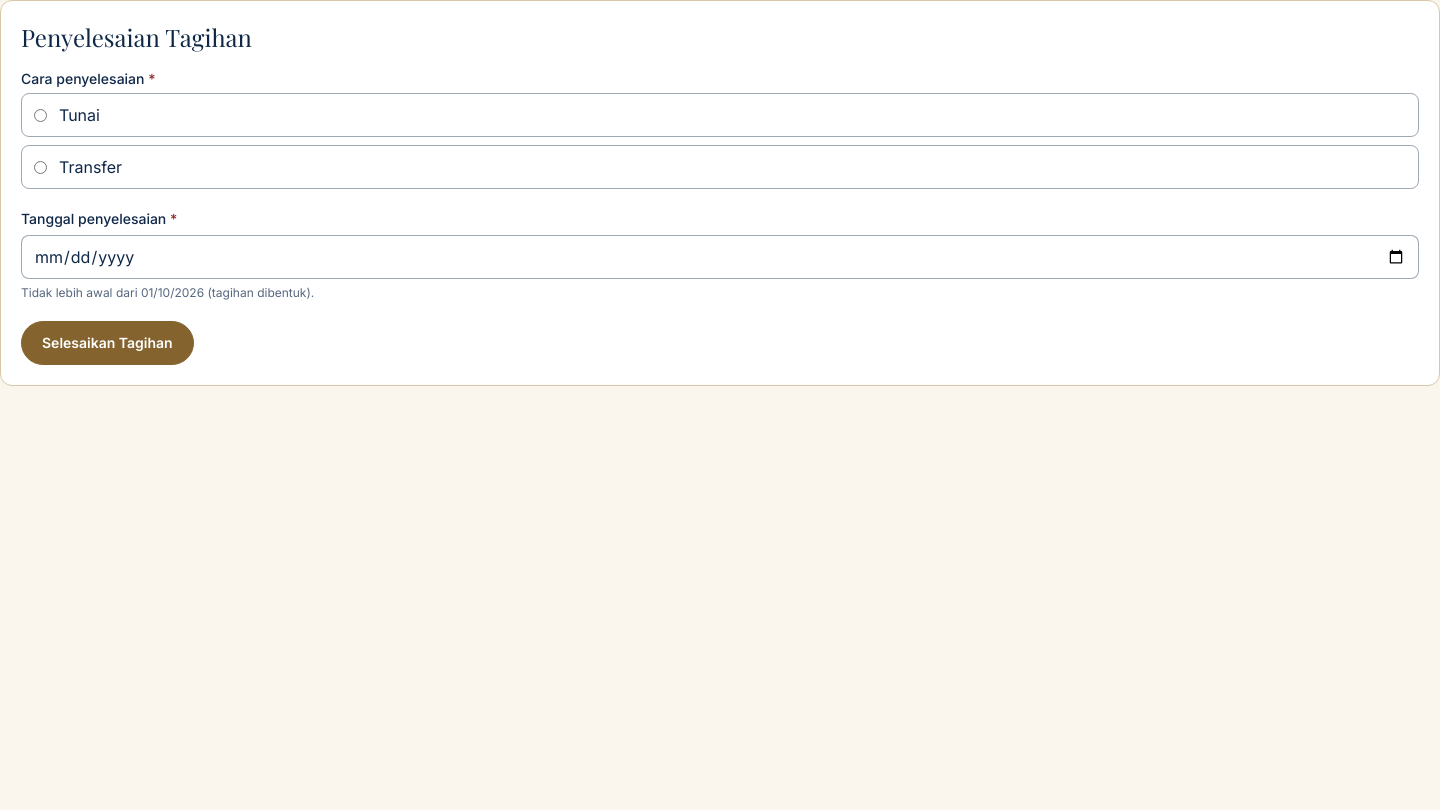
it: Penyelesaian (FR-TGH-02..04, OQ-08, OQ-28) › OQ_28_tanggal_di_luar_batas_pesan_backend
Click the radio button labelled "Tunai": point(40, 115) 34,108 -> 47,122
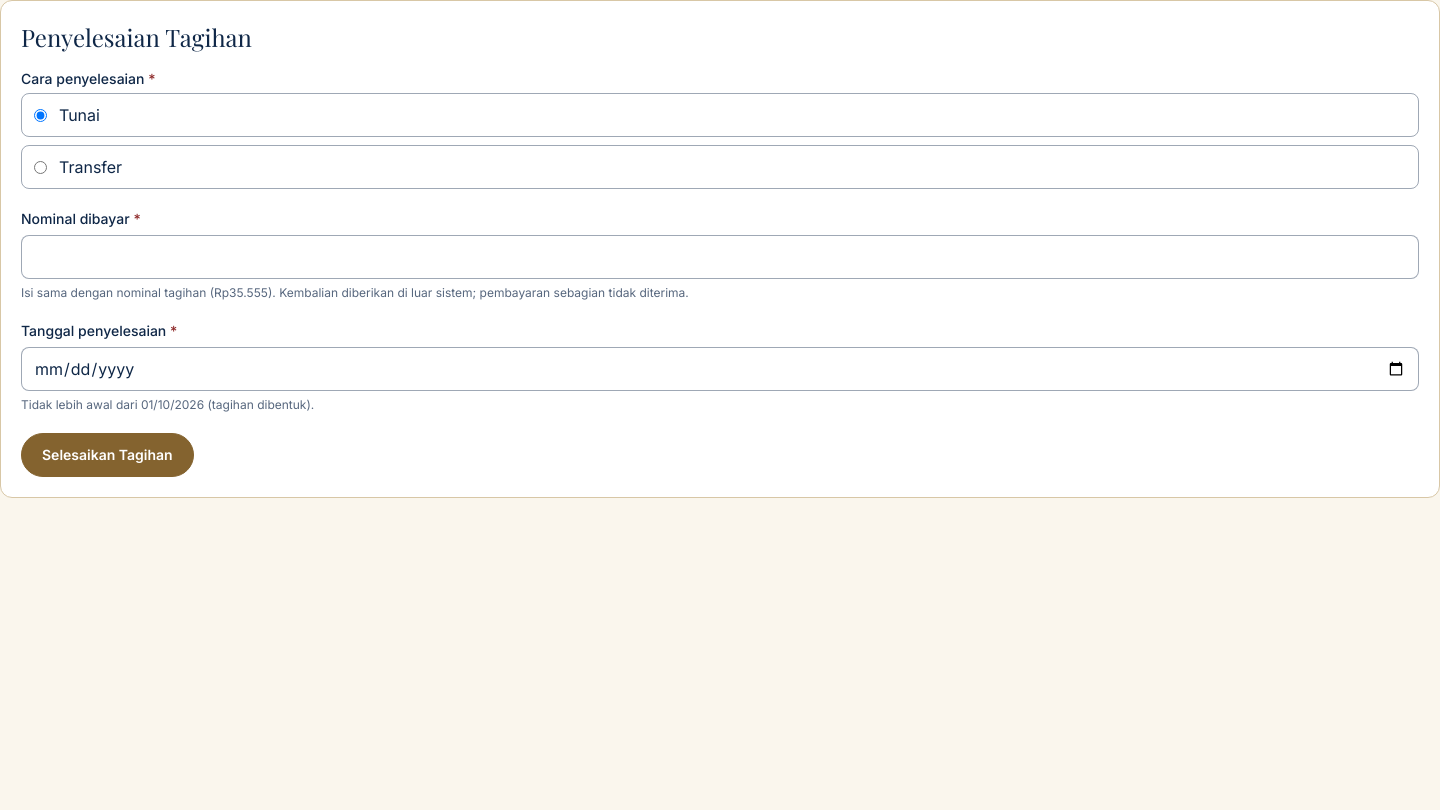
In the field labelled "Nominal dibayar *": point(720, 257) 21,235 -> 1419,279, type "35555"
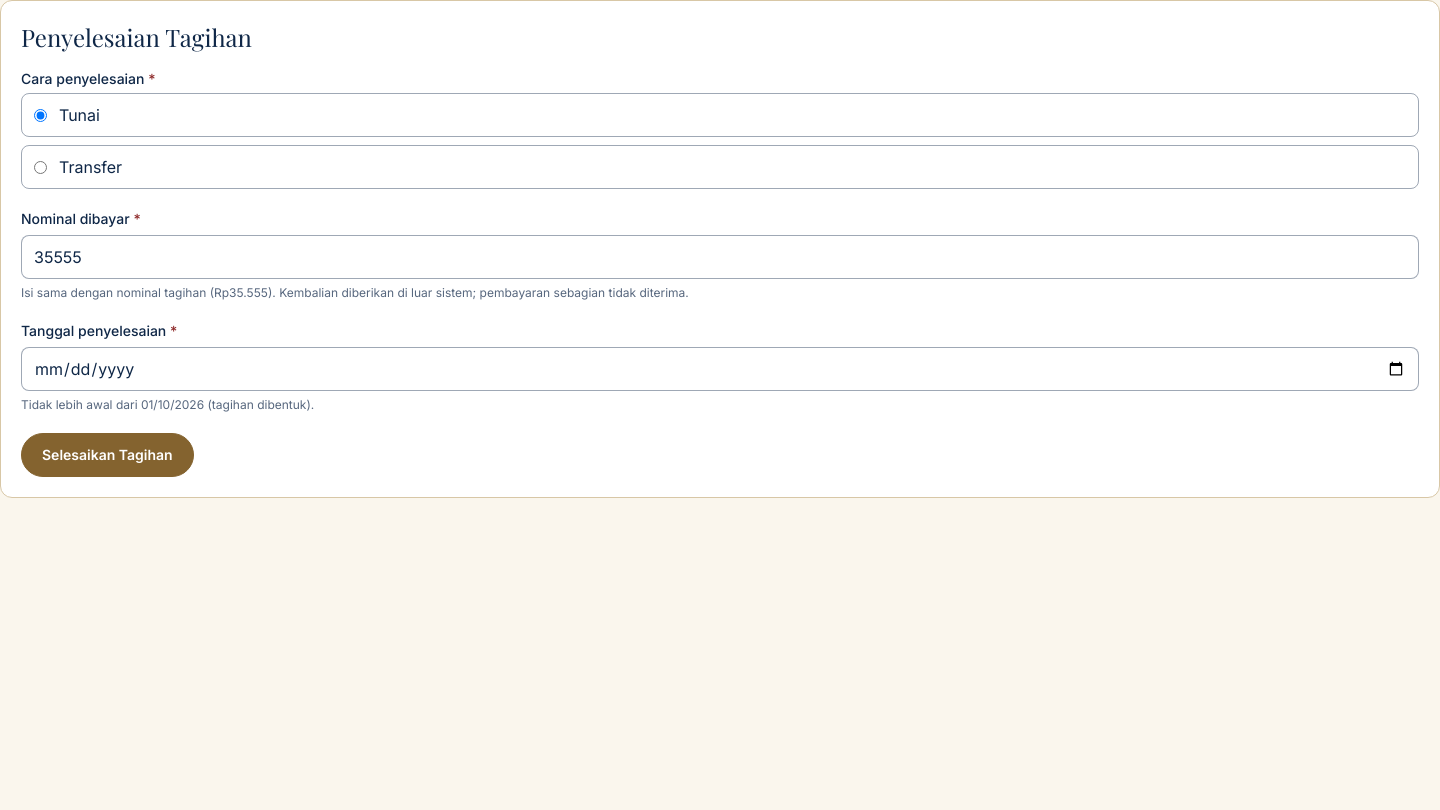
In the date field labelled "Tanggal penyelesaian *": point(720, 369) 21,347 -> 1419,391, type "2026-12-31"
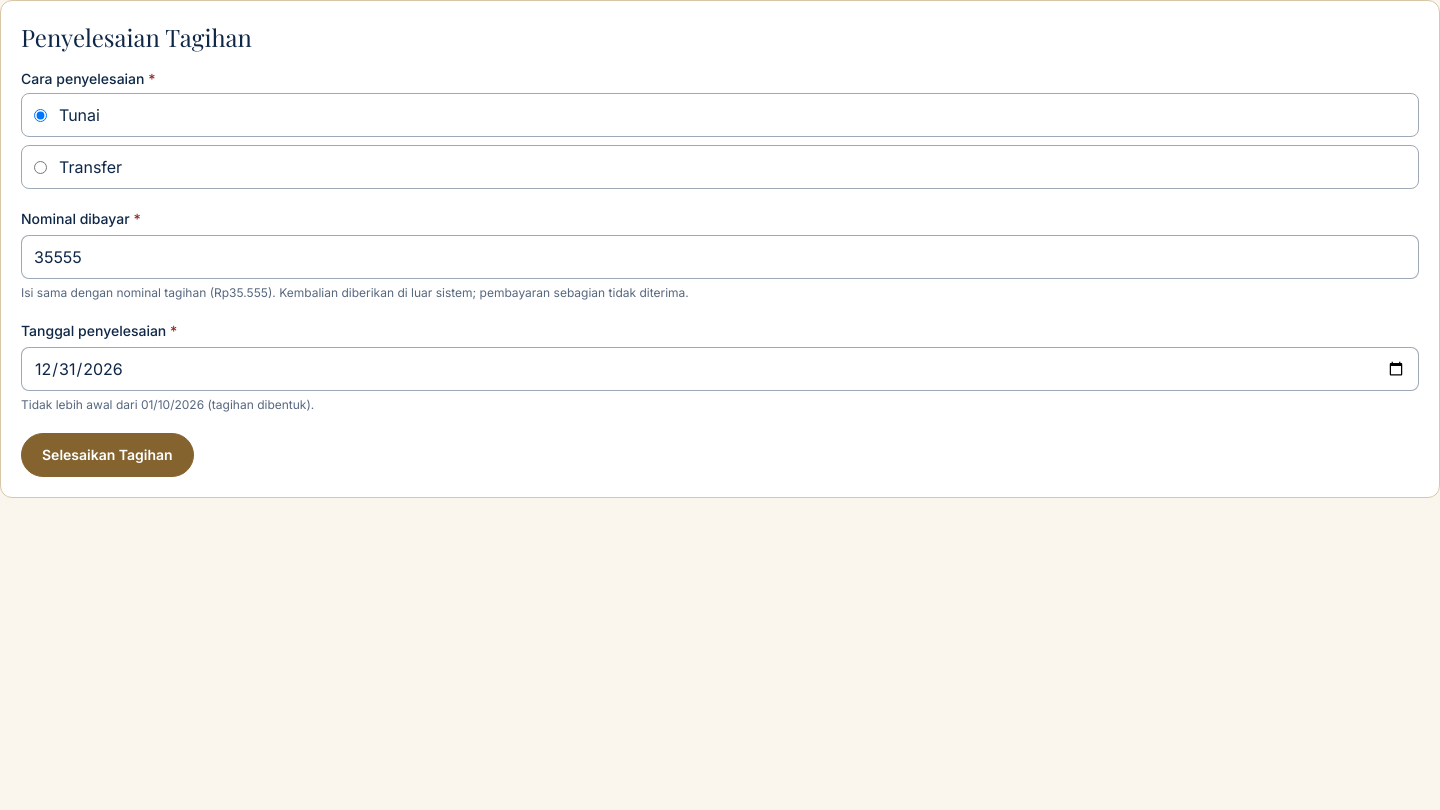
Click the button "Selesaikan Tagihan": point(107, 455) 21,433 -> 194,477
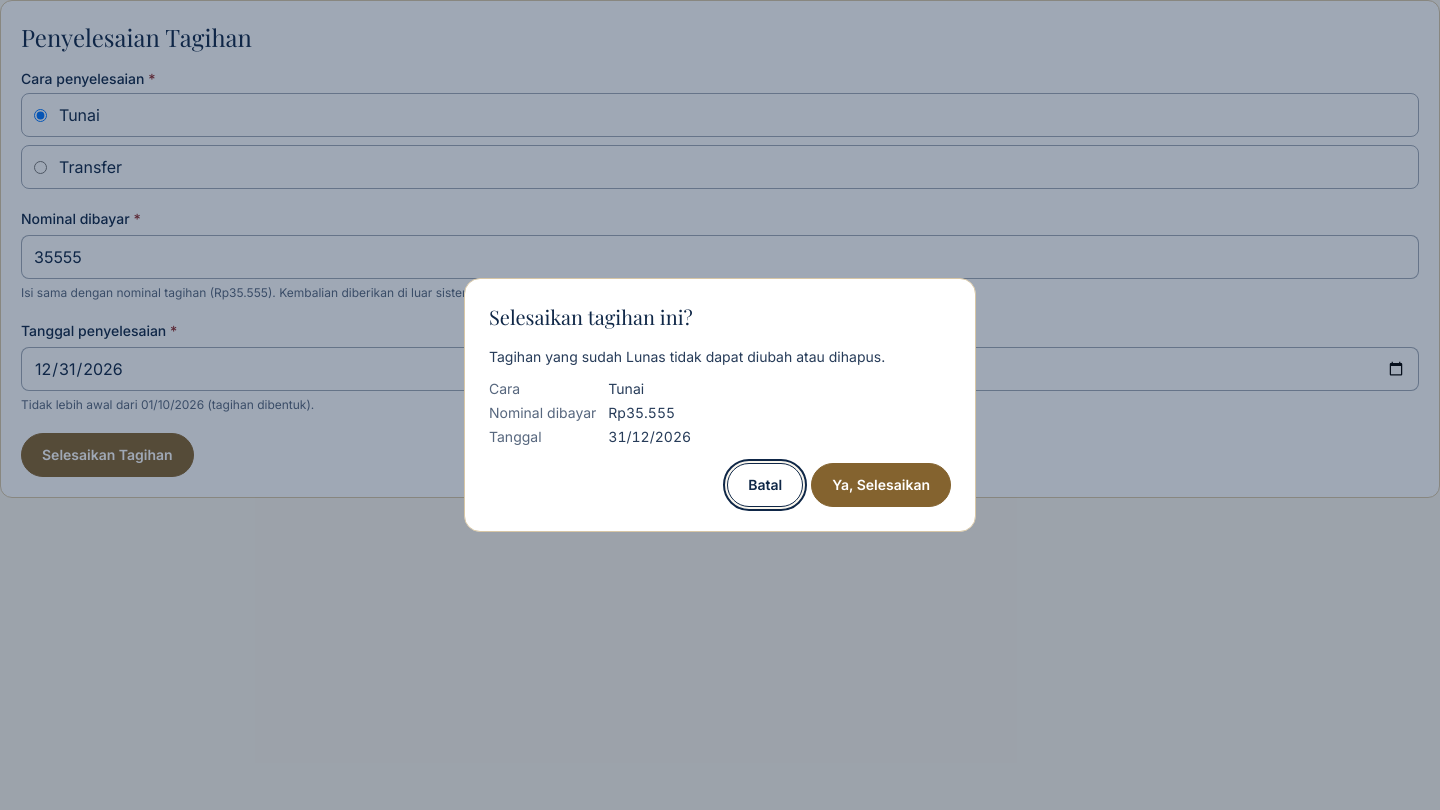
Click the button "Ya, Selesaikan": point(881, 485) 811,463 -> 951,507
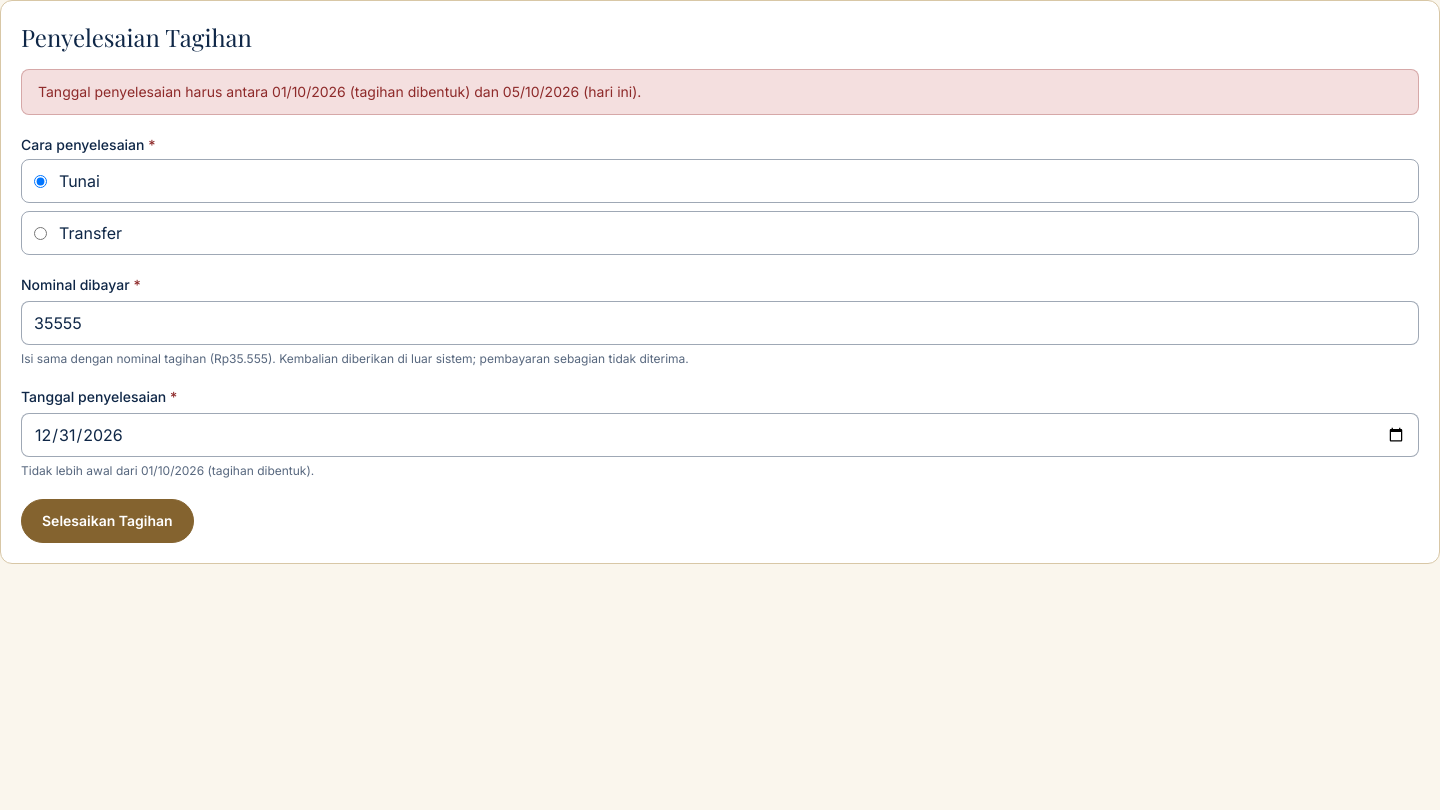
Result: the message shows "Tanggal penyelesaian harus antara 01/10/2026 (tagihan dibentuk) dan 05/10/2026 (hari ini)." at 38,83 -> 641,100
